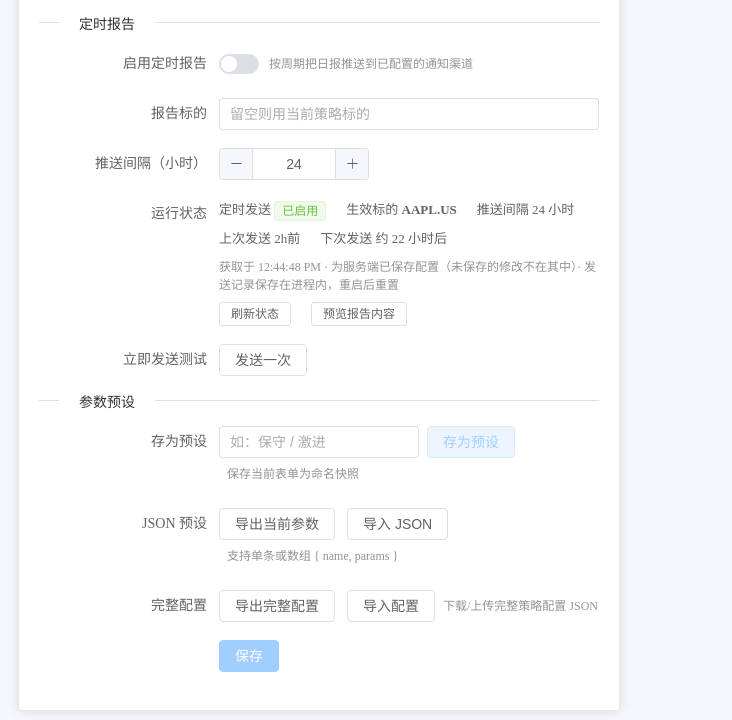
Scenario: Scheduled report diagnostics › keeps the run-now action working with its existing semantics
The image size is (732, 720).
(page scrolled)
expect the text "定时报告" is shown: met, box [59,13,155,33]
Click the button with test id "report-schedule-test". click: [263, 361]
box: [219,345,307,377]
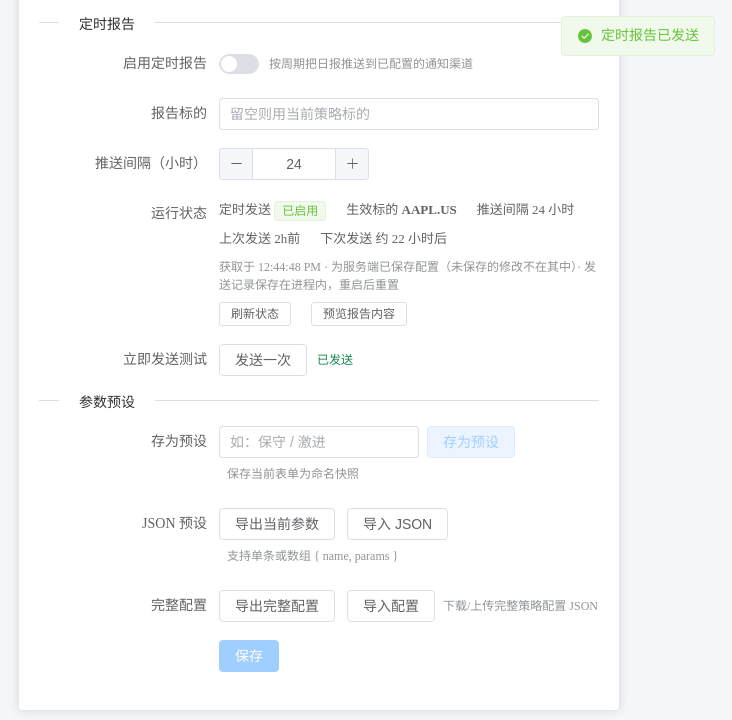
expect the text "已发送" is shown: met, box [317,354,353,368]
